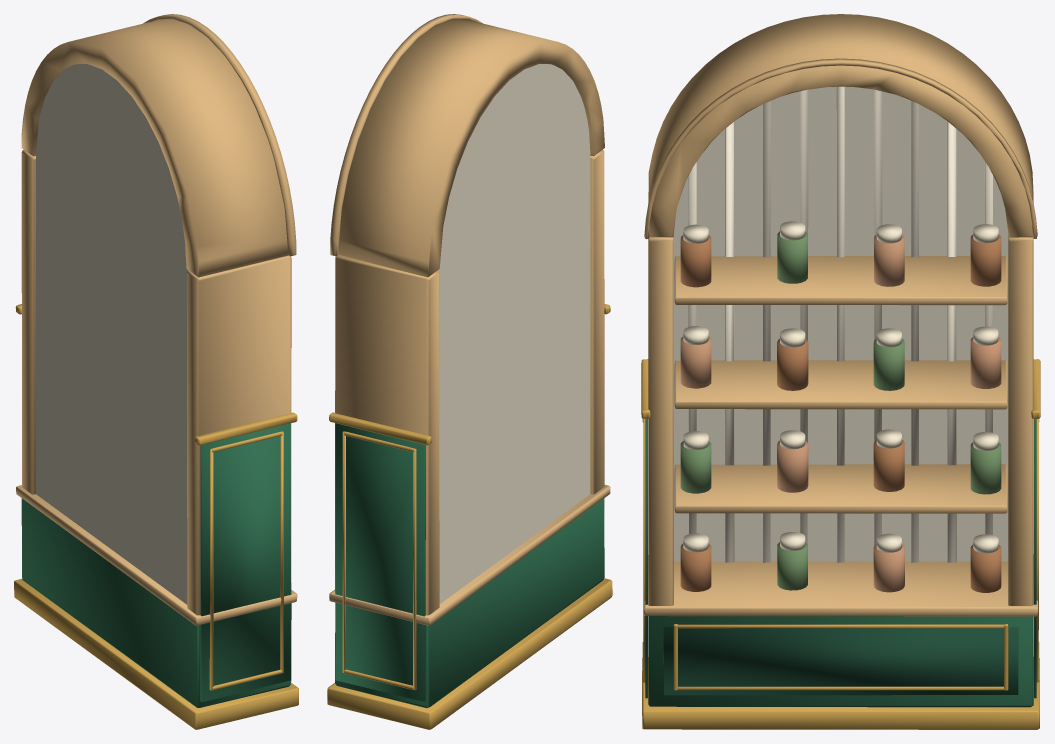
Rendered from arch_shelves.glb.
3 views of the same model, side by side, from view 1: azimuth 30°, elevation 25°; view 2: azimuth 150°, elevation 25°; view 3: azimuth 270°, elevation 25° (orthographic). The views are drawn at different scales.
Parts seen in each view (by area): view 1: BackPanel, ArchHead, SidePanel-1, Side-1, Base, Plinth, Side1, BaseCap, ArchBead, SideBand-1, SideTrimV-1-0.14, SideTrimV-10.14; view 2: BackPanel, ArchHead, SidePanel1, Side1, Base, Plinth, Side-1, BaseCap, ArchBead, SideBand1, SideTrimV10.14, SideTrimV1-0.14; view 3: BackPanel, ArchHead, FrontPanel, BaseCap, Shelf1, Shelf2, Shelf3, Base, Side1, Side-1, Plinth, ArchBead (+31 smaller).
Boxes of the visible parts, <box> form: BackPanel: <box>36,64,188,604</box>; ArchHead: <box>21,19,288,277</box>; SidePanel-1: <box>200,423,291,702</box>; Side-1: <box>187,255,291,615</box>; Base: <box>21,498,291,708</box>; Plinth: <box>14,579,298,729</box>; Side1: <box>21,150,35,494</box>; BaseCap: <box>16,485,297,625</box>; ArchBead: <box>143,14,296,256</box>; SideBand-1: <box>195,412,297,445</box>; SideTrimV-1-0.14: <box>209,448,213,690</box>; SideTrimV-10.14: <box>280,431,283,672</box>; BackPanel: <box>438,64,590,603</box>; ArchHead: <box>338,19,604,277</box>; SidePanel1: <box>335,423,425,701</box>; Side1: <box>335,255,439,615</box>; Base: <box>335,498,604,708</box>; Plinth: <box>327,578,612,729</box>; Side-1: <box>590,149,604,494</box>; BaseCap: <box>329,484,610,625</box>; ArchBead: <box>330,14,482,256</box>; SideBand1: <box>329,412,431,445</box>; SideTrimV10.14: <box>342,431,345,672</box>; SideTrimV1-0.14: <box>413,448,416,690</box>; BackPanel: <box>673,86,1008,561</box>; ArchHead: <box>648,14,1033,237</box>; FrontPanel: <box>663,627,1018,695</box>; BaseCap: <box>643,554,1038,616</box>; Shelf1: <box>674,464,1007,513</box>; Shelf2: <box>674,360,1007,409</box>; Shelf3: <box>674,256,1007,305</box>; Base: <box>648,616,1033,707</box>; Side1: <box>1008,191,1033,605</box>; Side-1: <box>648,192,673,605</box>; Plinth: <box>642,657,1039,729</box>; ArchBead: <box>644,58,1037,239</box>.
Size of the model in its own units: 0.4223 by 2.37 by 1.28.
